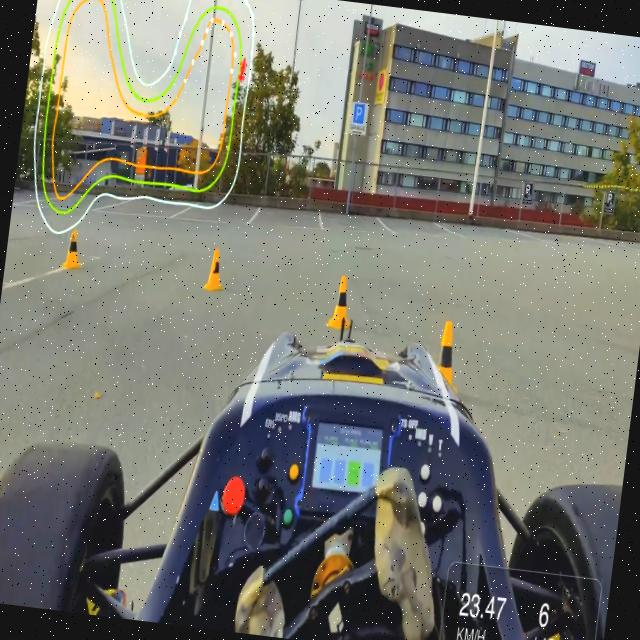yellow_cone: (423, 319, 464, 401), (326, 274, 356, 331), (203, 248, 226, 292), (62, 230, 84, 270)
